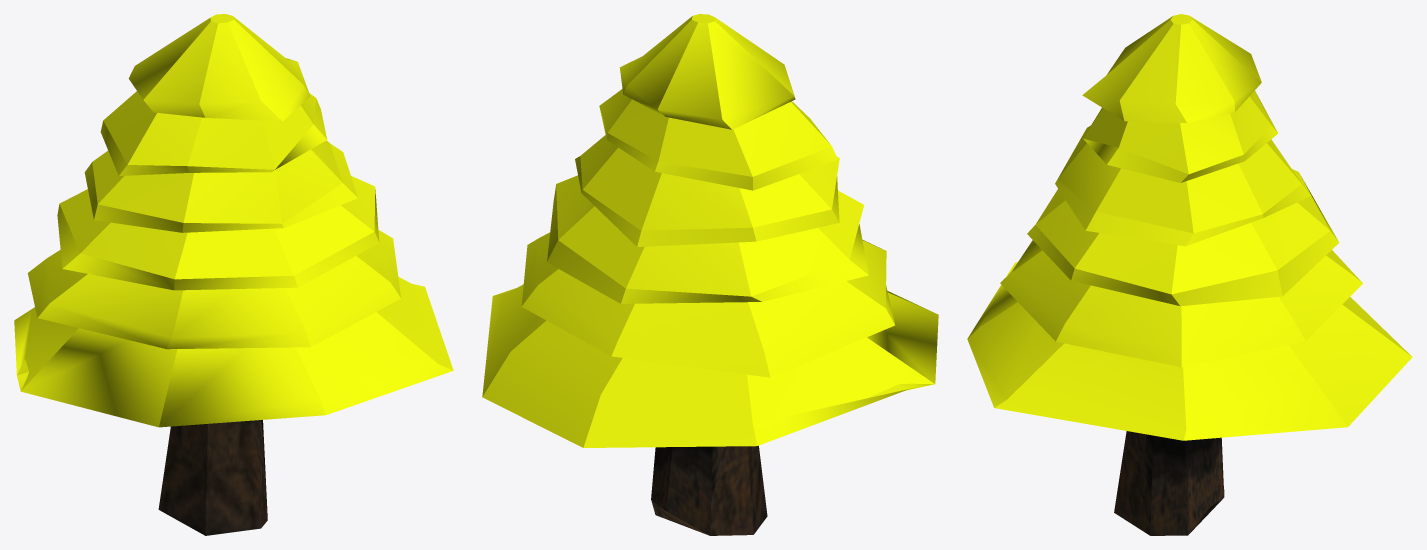
The model's file is tree.obj.
3 views of the same model, side by side, from view 1: azimuth 30°, elevation 25°; view 2: azimuth 150°, elevation 25°; view 3: azimuth 270°, elevation 25° (orthographic). The views are drawn at different scales.
Parts seen in each view (by area): view 1: Cylinder_Cylinder.001_Material.008, Cylinder_Cylinder.001_Material.007; view 2: Cylinder_Cylinder.001_Material.008, Cylinder_Cylinder.001_Material.007; view 3: Cylinder_Cylinder.001_Material.008, Cylinder_Cylinder.001_Material.007.
Boxes of the visible parts, box(x1,y1,x2,y2) form: Cylinder_Cylinder.001_Material.008: box(14, 14, 453, 427); Cylinder_Cylinder.001_Material.007: box(158, 420, 267, 535); Cylinder_Cylinder.001_Material.008: box(482, 14, 938, 447); Cylinder_Cylinder.001_Material.007: box(651, 445, 767, 535); Cylinder_Cylinder.001_Material.008: box(967, 14, 1412, 440); Cylinder_Cylinder.001_Material.007: box(1114, 431, 1224, 535).
Bounding box in the file's own units: 7.77 × 8.86 × 7.13.
2 materials, 2 textured.
